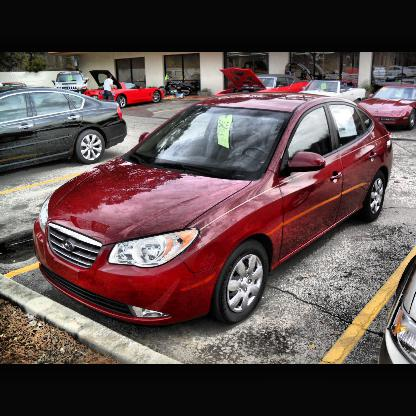Hyundai Elantra Sedan 2007: (32, 92, 395, 330)
